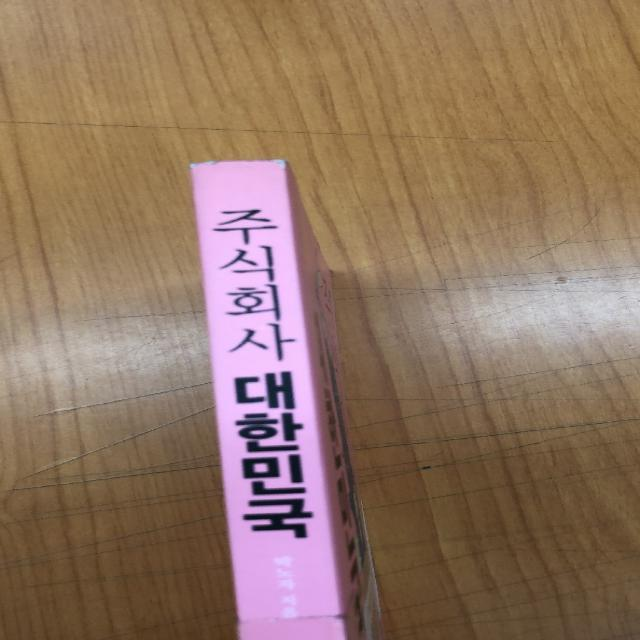Wornout: (185, 152, 290, 176)
